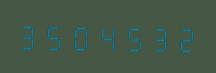five: (43, 18, 68, 52), (121, 20, 146, 53)
four: (95, 19, 120, 53)
three: (147, 20, 172, 54), (17, 18, 42, 51)
two: (173, 21, 198, 54)
zero: (69, 19, 94, 52)
